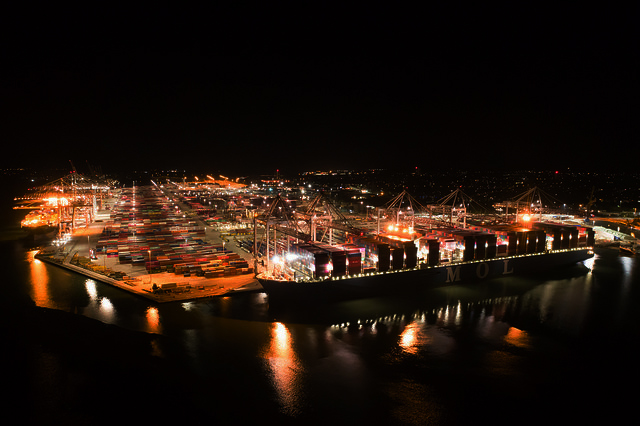container_ship: (255, 217, 594, 311)
